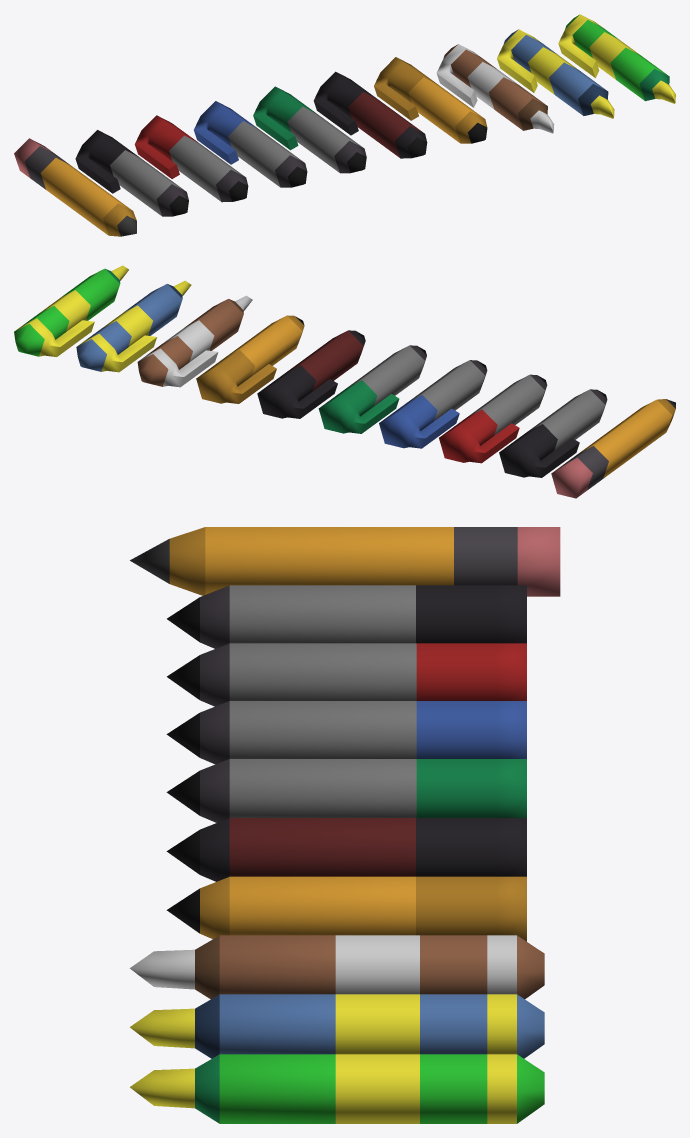
File: pens.fbx
3 renders of one model, top to bottom at view 1: azimuth 30°, elevation 25°; view 2: azimuth 150°, elevation 25°; view 3: azimuth 270°, elevation 25°, orthographic. The views are drawn at different scales.
Parts seen in each view (by area): view 1: Pencil, Pen Fancy Captain, Pen Fancy Centcom, Pen Fancy, Pen Syndicate, Pen Green, Pen Black, Pen Brass, Pen Red, Pen Blue; view 2: Pencil, Pen Fancy Captain, Pen Fancy, Pen Fancy Centcom, Pen Black, Pen Green, Pen Red, Pen Brass, Pen Syndicate, Pen Blue; view 3: Pen Fancy Centcom, Pencil, Pen Fancy Captain, Pen Fancy, Pen Brass, Pen Green, Pen Syndicate, Pen Black, Pen Blue, Pen Red.
Part boxes in pixels (box(x1,y1,x2,y2)): Pencil: box(14, 138, 136, 236); Pen Fancy Captain: box(497, 29, 614, 118); Pen Fancy Centcom: box(558, 14, 675, 103); Pen Fancy: box(436, 44, 554, 133); Pen Syndicate: box(313, 71, 427, 158); Pen Green: box(253, 86, 366, 173); Pen Black: box(75, 130, 188, 216); Pen Brass: box(374, 57, 487, 143); Pen Red: box(134, 115, 248, 202); Pen Blue: box(194, 101, 307, 187); Pencil: box(551, 399, 675, 498); Pen Fancy Captain: box(76, 280, 191, 372); Pen Fancy: box(137, 295, 252, 387); Pen Fancy Centcom: box(14, 265, 128, 356); Pen Black: box(499, 389, 607, 477); Pen Green: box(318, 345, 426, 433); Pen Red: box(439, 374, 547, 463); Pen Brass: box(196, 315, 304, 403); Pen Syndicate: box(257, 330, 365, 418); Pen Blue: box(379, 360, 487, 448); Pen Fancy Centcom: box(130, 1054, 544, 1123); Pencil: box(130, 527, 560, 596); Pen Fancy Captain: box(130, 994, 544, 1058); Pen Fancy: box(129, 935, 544, 999); Pen Brass: box(166, 876, 526, 941); Pen Green: box(166, 759, 526, 822); Pen Syndicate: box(166, 818, 526, 881); Pen Black: box(167, 585, 526, 648); Pen Blue: box(166, 701, 526, 764); Pen Red: box(167, 643, 526, 706).
Bounding box in the file's own units: 0.8376 × 0.0428 × 0.2739.
